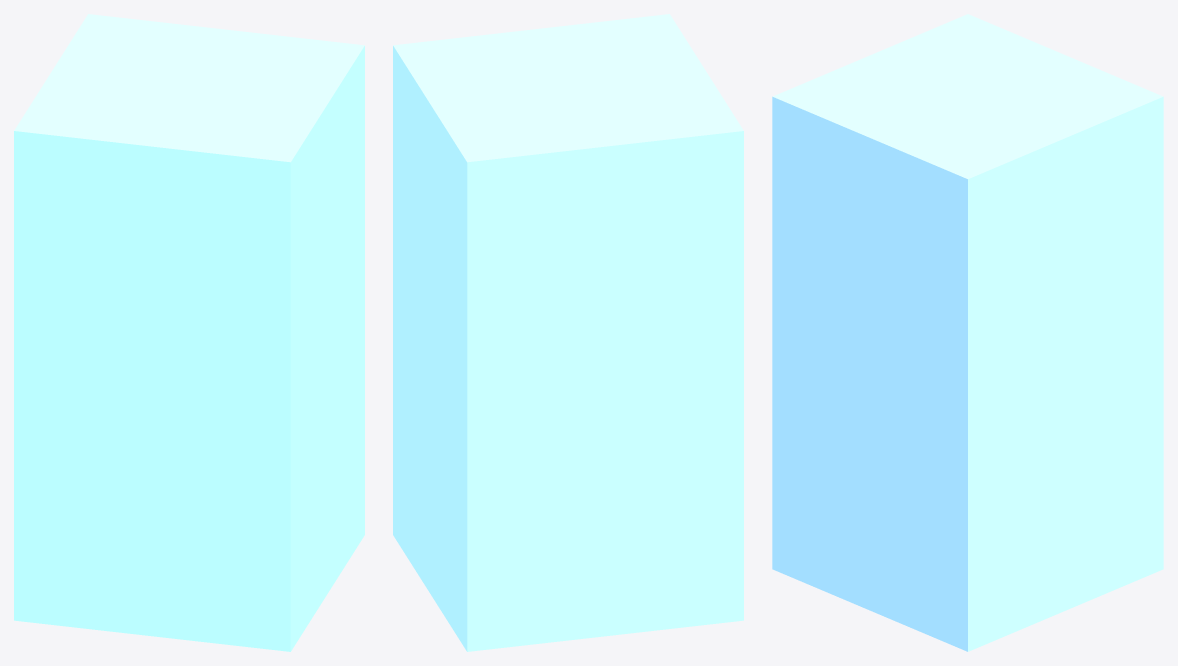
File: tower_sniper_lod2.glb
3 renders of one model, left to right at view 1: azimuth 30°, elevation 25°; view 2: azimuth 150°, elevation 25°; view 3: azimuth 270°, elevation 25°, orthographic. The views are drawn at different scales.
Parts seen in each view (by area): view 1: tower_sniper_lod2; view 2: tower_sniper_lod2; view 3: tower_sniper_lod2.
Part boxes in pixels (left/top/right/bottom): tower_sniper_lod2: left=14, top=14, right=364, bottom=651; tower_sniper_lod2: left=393, top=14, right=743, bottom=651; tower_sniper_lod2: left=772, top=14, right=1163, bottom=651.
Bounding box in the file's own units: 0.6 × 0.8 × 0.6.
